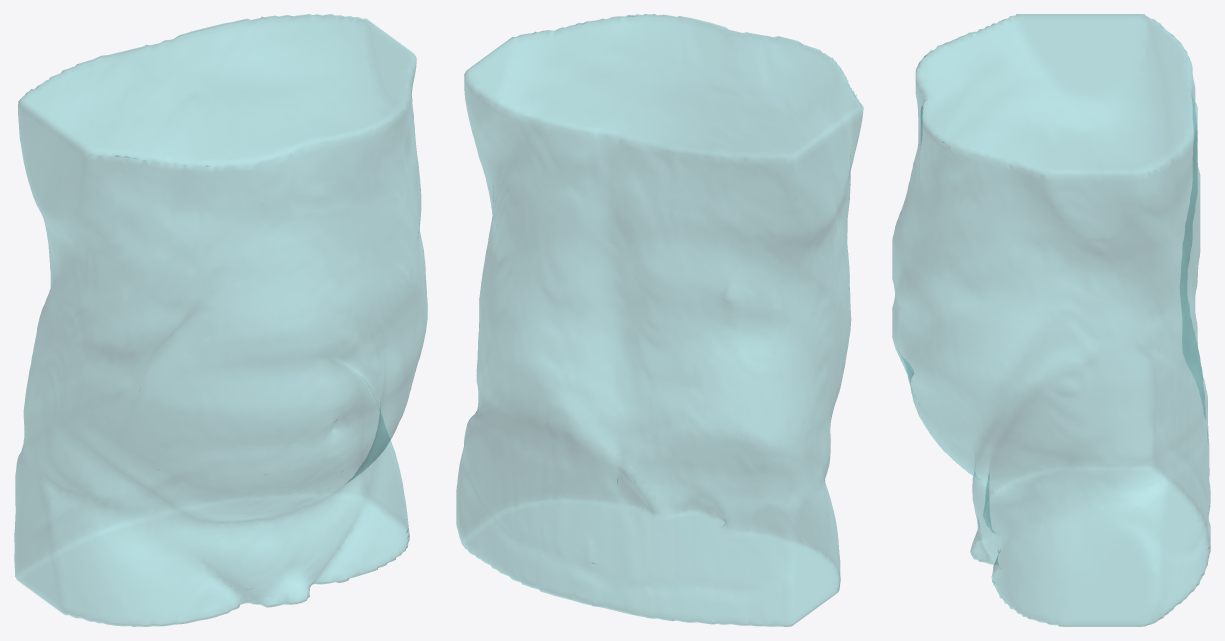
Rendered from body-surface.glb.
The picture shows the model from 3 angles, left to right: view 1: azimuth 30°, elevation 25°; view 2: azimuth 150°, elevation 25°; view 3: azimuth 270°, elevation 25°; orthographic projection. The views are drawn at different scales.
Visible parts, largest first — view 1: CT external envelope; view 2: CT external envelope; view 3: CT external envelope.
Boxes of the visible parts, x1,y1,x2,y2 form: CT external envelope: (14,14,427,626); CT external envelope: (456,14,863,626); CT external envelope: (892,14,1210,626).
Bounding box in the file's own units: 0.3661 × 0.4876 × 0.3087.
